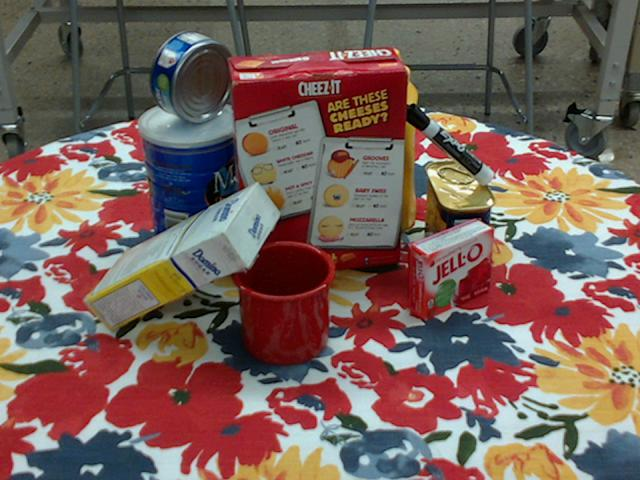cracker_box: (226, 48, 408, 278)
gelatin_box: (407, 218, 494, 320)
large_marker: (401, 104, 493, 185)
master_chef_can: (139, 100, 244, 263)
mug: (230, 239, 336, 365)
mustard_bottle: (362, 49, 417, 231)
potted_meat_can: (424, 160, 495, 276)
sugar_box: (81, 183, 280, 333)
tomato_soup_can: (280, 106, 341, 212)
tuna_fish_can: (149, 31, 233, 122)
